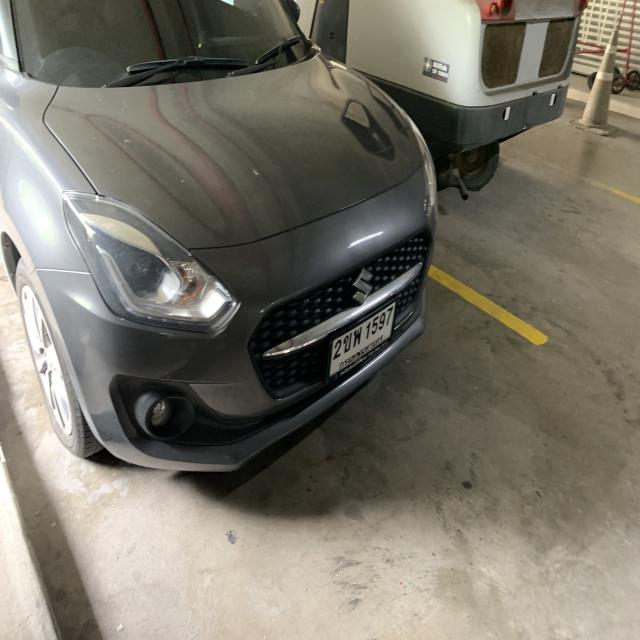license_plate: (326, 293, 401, 386)
